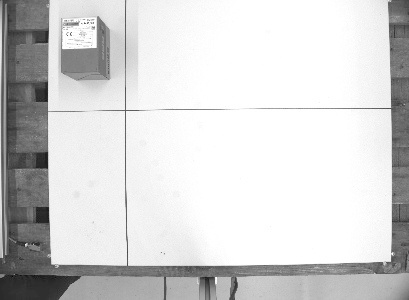b4: (57, 15, 112, 82)
